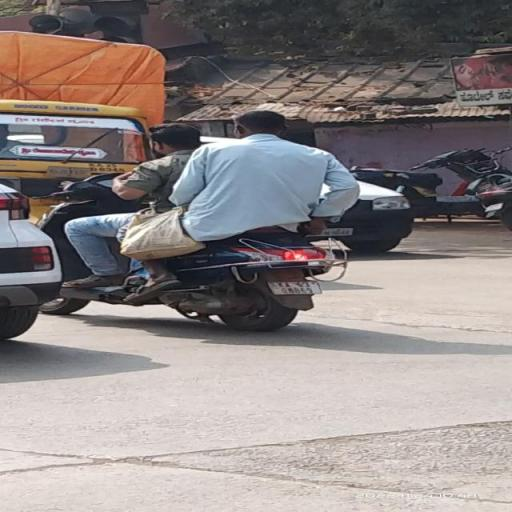bike: (36, 111, 361, 334)
numberplate: (268, 280, 321, 295)
withouthelmet: (150, 124, 198, 155), (236, 113, 286, 137)
